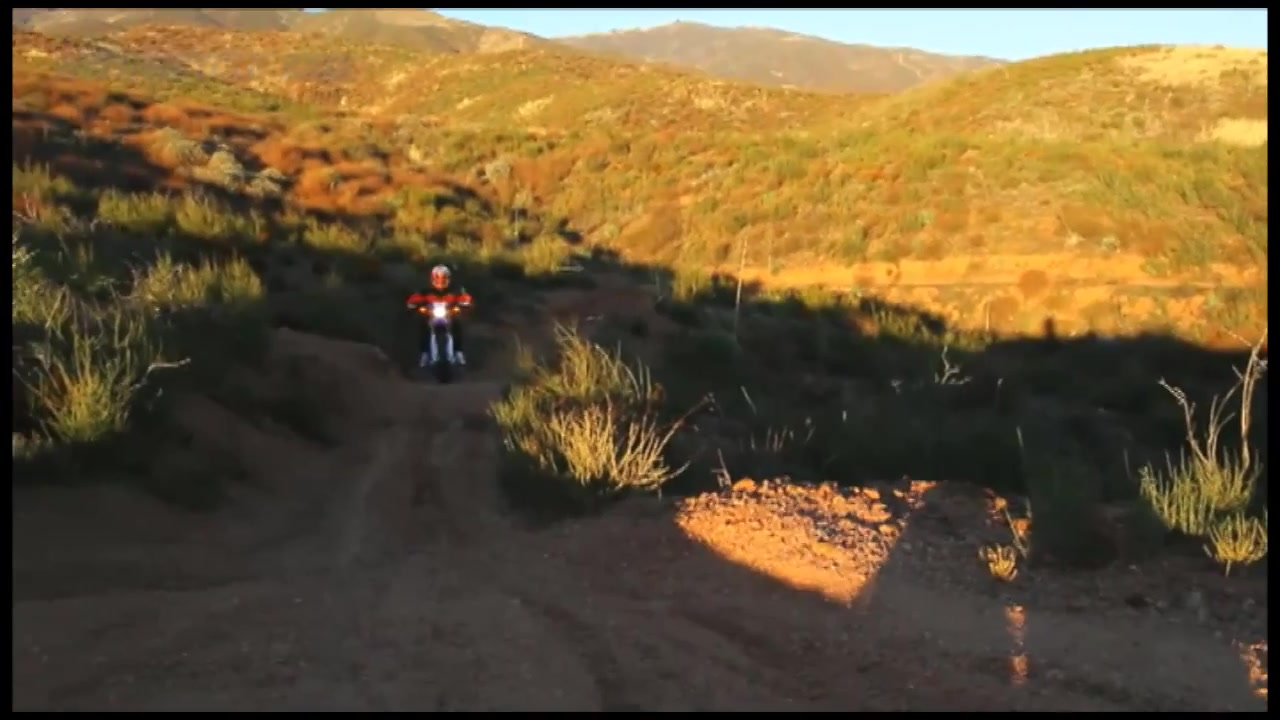motorbike: (402, 293, 482, 380)
